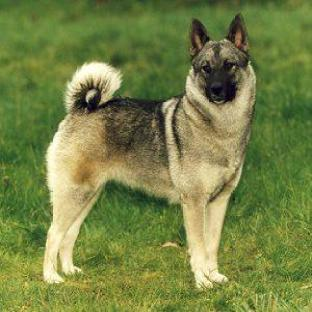Animal: (44, 13, 255, 287)
